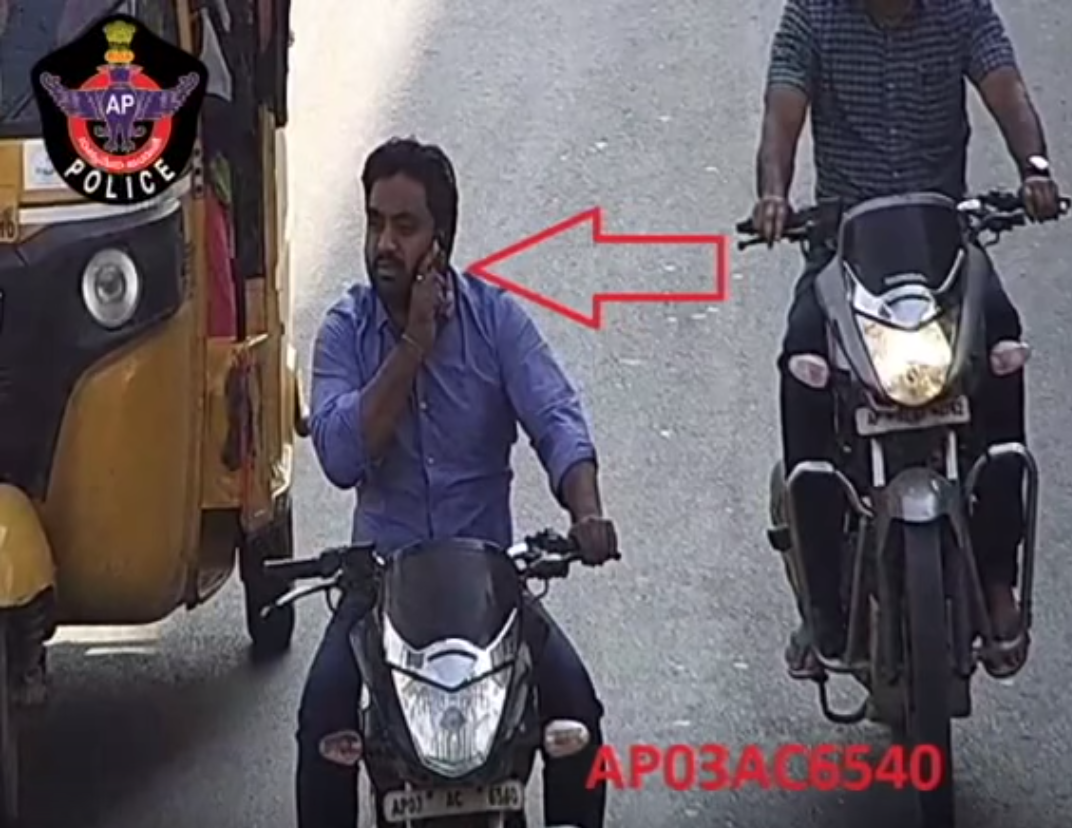h_bike: (732, 2, 1052, 791), (279, 121, 607, 828)
h_nohelmet: (343, 125, 470, 334)
numplate: (377, 791, 545, 827), (850, 398, 988, 439)
